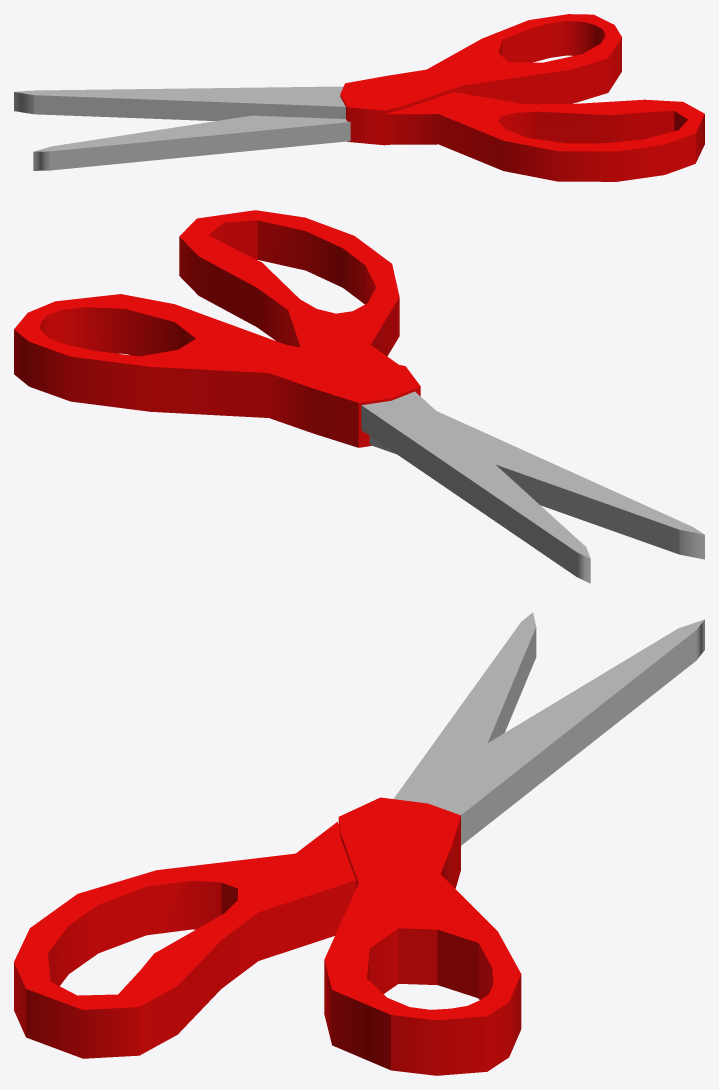
Rendered from scissors.fbx.
3 views of the same model, one above another, from view 1: azimuth 30°, elevation 25°; view 2: azimuth 150°, elevation 25°; view 3: azimuth 270°, elevation 25° (orthographic). The views are drawn at different scales.
Parts seen in each view (by area): view 1: ScissorHandles, ScissorBlades; view 2: ScissorHandles, ScissorBlades; view 3: ScissorHandles, ScissorBlades.
Boxes of the visible parts, bbox=[...] form: ScissorHandles: bbox=[340, 14, 704, 181]; ScissorBlades: bbox=[14, 86, 350, 170]; ScissorHandles: bbox=[14, 210, 420, 447]; ScissorBlades: bbox=[361, 391, 704, 583]; ScissorHandles: bbox=[14, 797, 521, 1075]; ScissorBlades: bbox=[394, 612, 704, 845].
Bounding box in the file's own units: 264 × 15.82 × 178.
2 materials, 2 textured.
